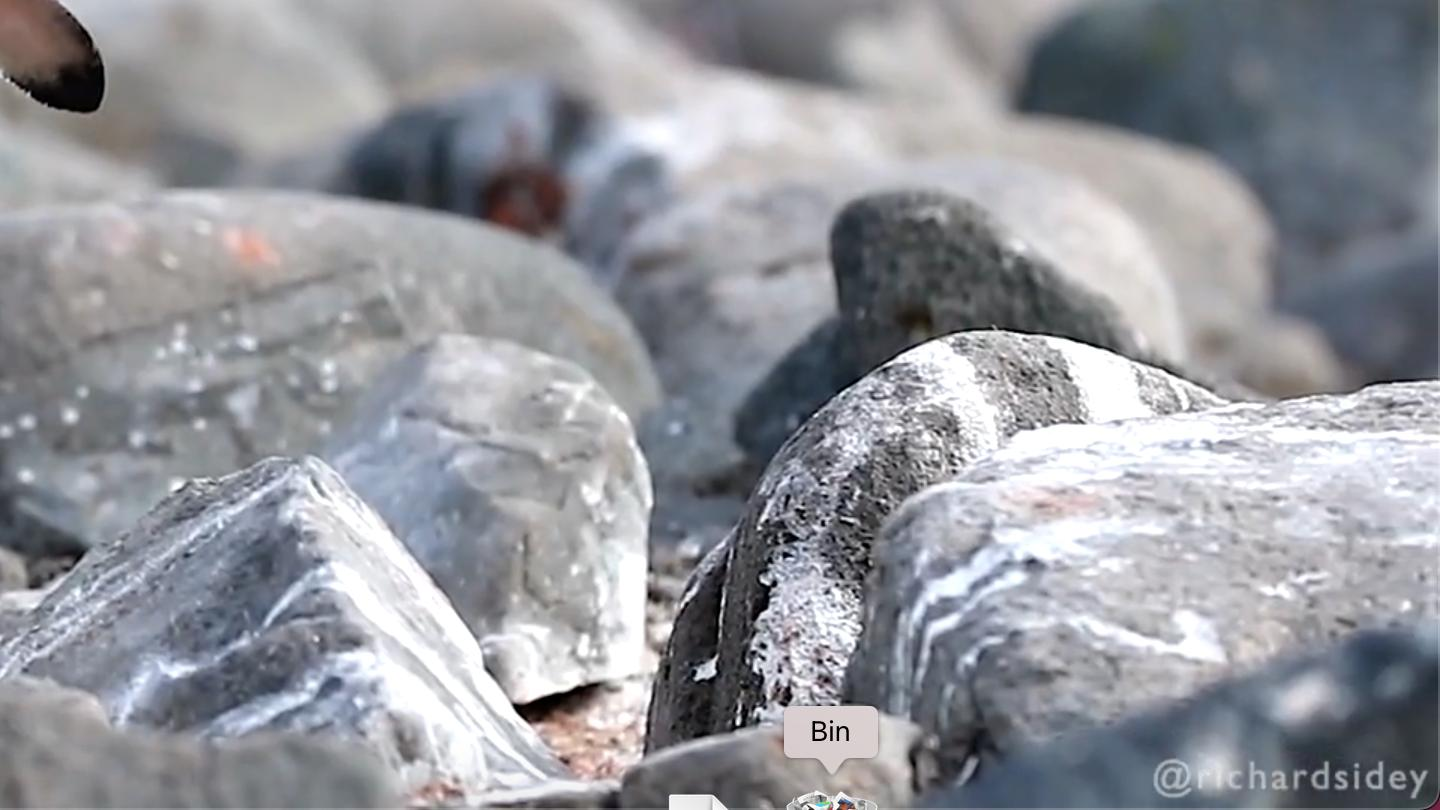Chinstrap Penguin: (0, 0, 130, 685)
